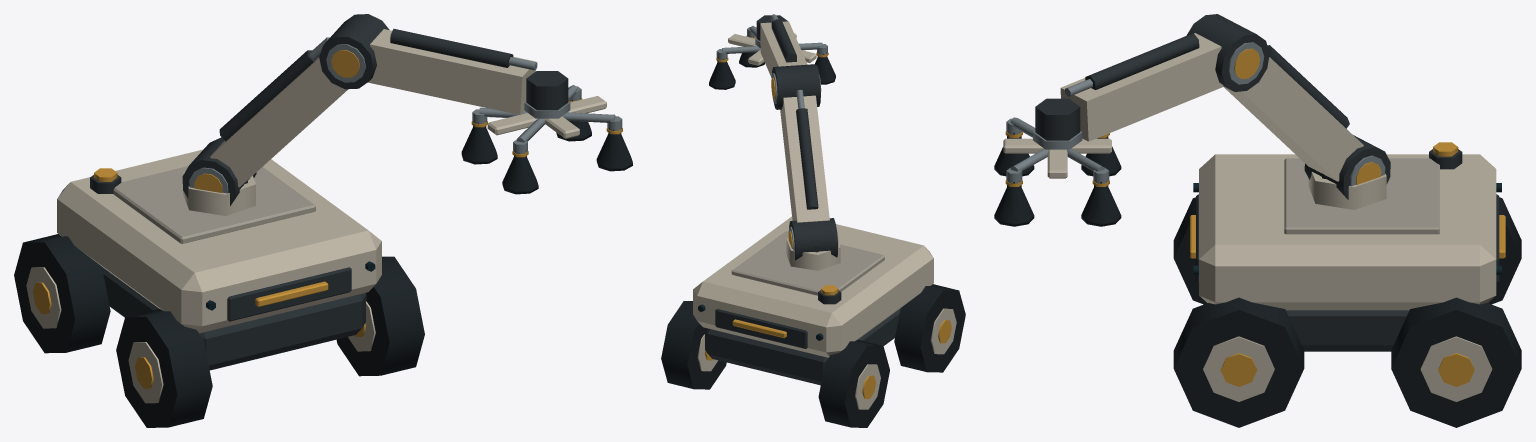
The model's file is cup_d0_lod2.meshopt.glb.
3 views of the same model, side by side, from view 1: azimuth 30°, elevation 25°; view 2: azimuth 150°, elevation 25°; view 3: azimuth 270°, elevation 25° (orthographic). The views are drawn at different scales.
Visible parts, largest first — view 1: CUP_STATIC_SURFACE; view 2: CUP_STATIC_SURFACE; view 3: CUP_STATIC_SURFACE.
Part boxes in pixels (bbox=[...]): CUP_STATIC_SURFACE: bbox=[14, 14, 632, 427]; CUP_STATIC_SURFACE: bbox=[661, 14, 965, 427]; CUP_STATIC_SURFACE: bbox=[994, 14, 1521, 427].
Bounding box in the file's own units: 1.3 × 1.17 × 1.46.
